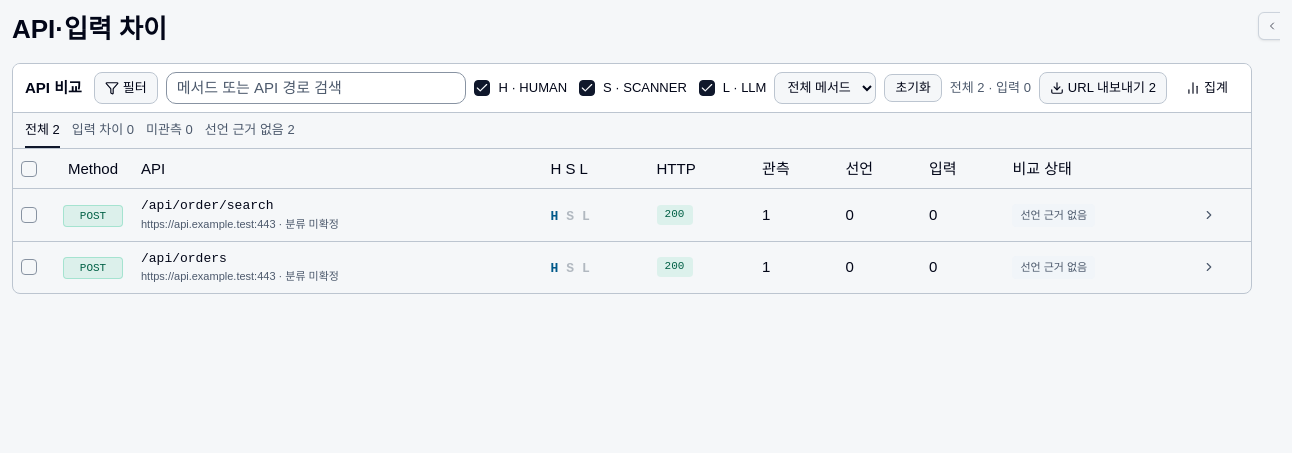
Test: opens API details on every click, including the same row after collapsing the desktop pane
Step 1. Click the button with aria-label "API 상세" → click(207, 206), box x1=141 y1=198 x2=274 y2=215
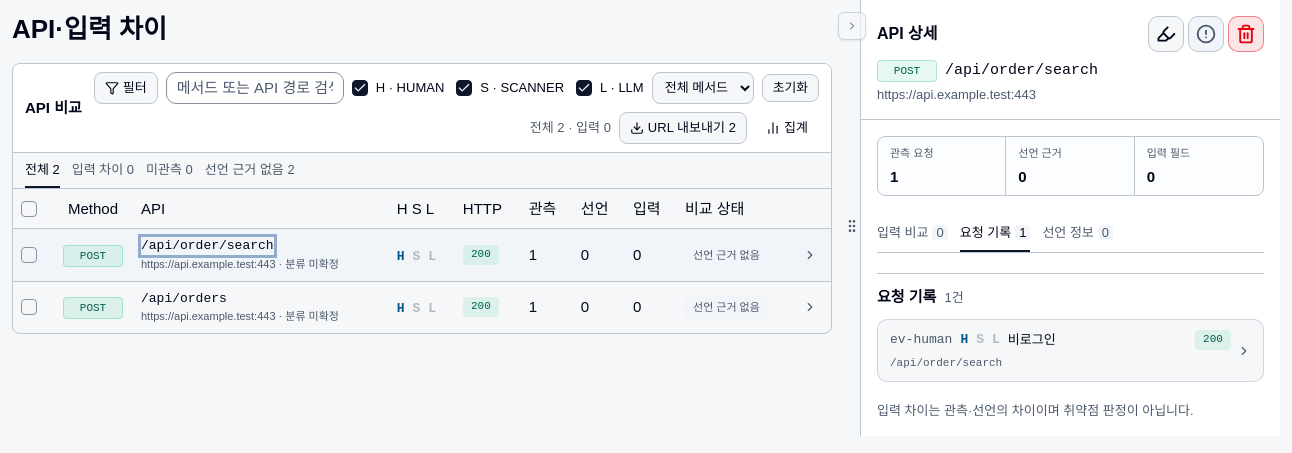
Now the element named "선택 상세" shows "/api/order/search", box x1=945 y1=62 x2=1098 y2=79
Step 2. Click the button named "선택 상세 패널 접기" → click(852, 26), box x1=838 y1=12 x2=866 y2=40
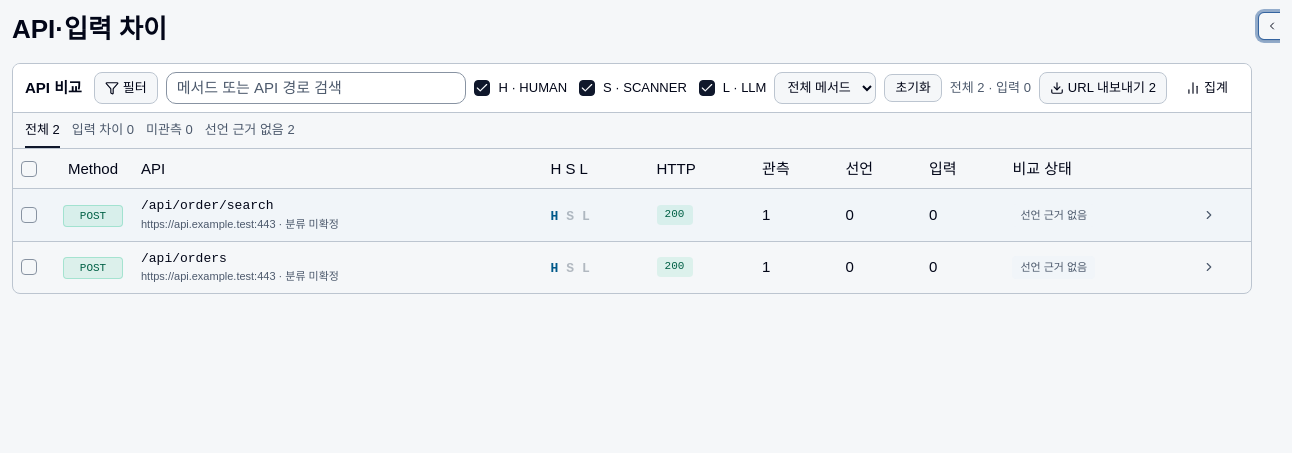
Step 3. Click the button with aria-label "API 상세" → click(207, 206), box x1=141 y1=198 x2=274 y2=215
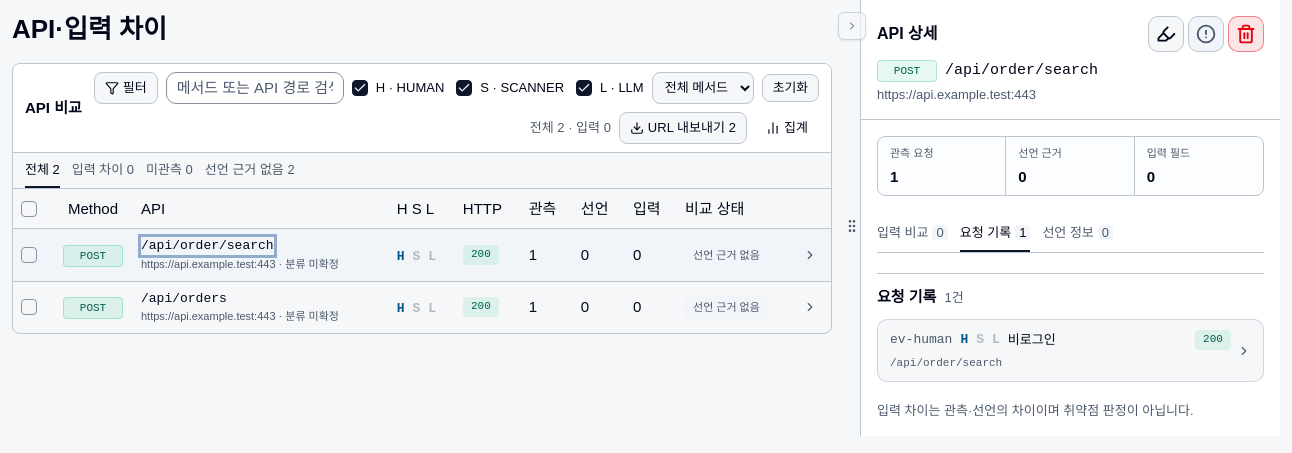
Now the element named "선택 상세" shows "/api/order/search", box x1=945 y1=62 x2=1098 y2=79
Step 4. Click the button named "선택 상세 패널 접기" → click(852, 26), box x1=838 y1=12 x2=866 y2=40
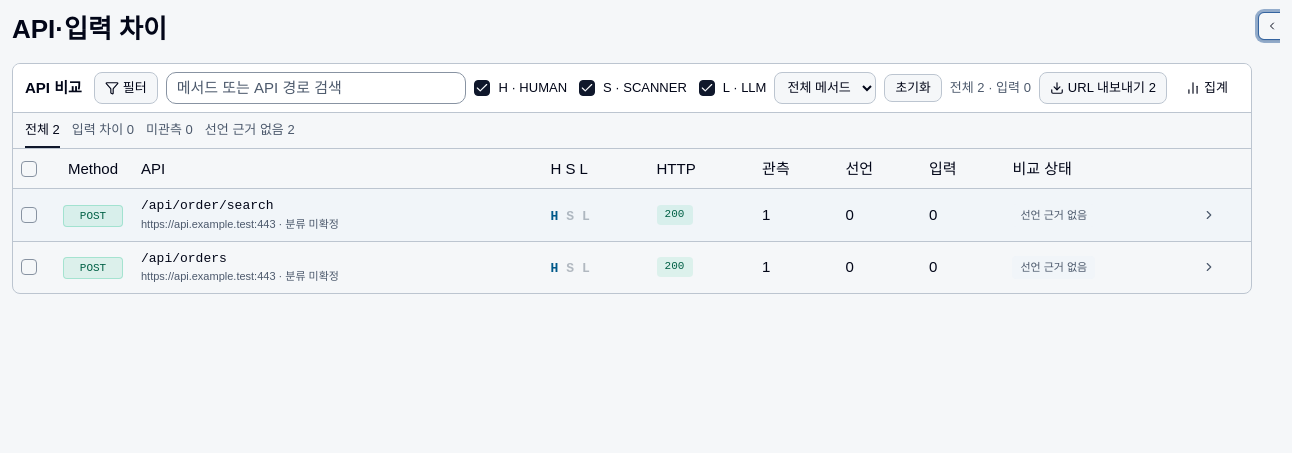
Step 5. Click the button with aria-label "API 상세" → click(184, 258), box x1=141 y1=250 x2=227 y2=267
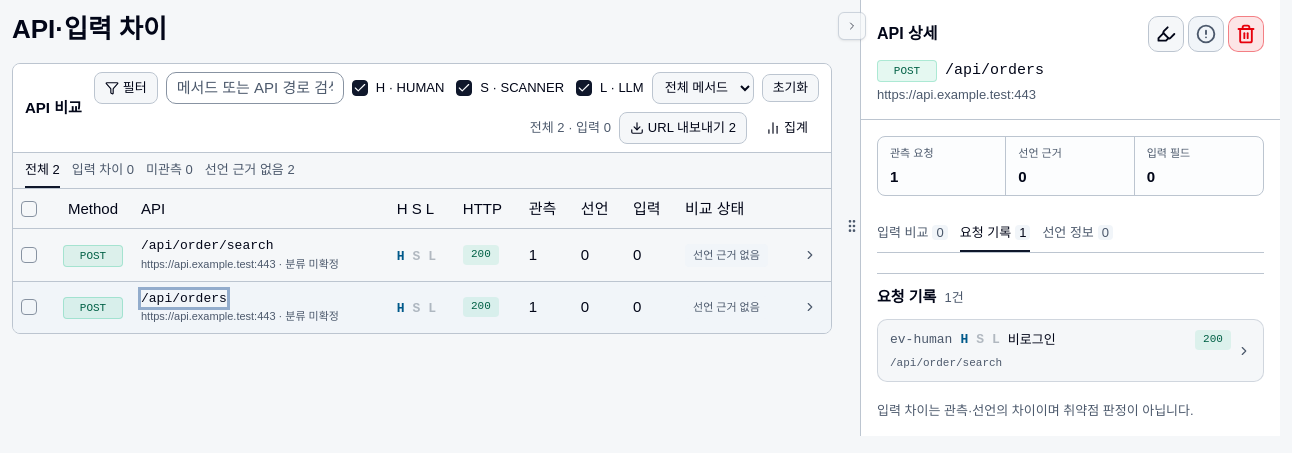
Now the element named "선택 상세" shows "/api/orders", box x1=945 y1=62 x2=1044 y2=79
Step 6. Press the mouse on the element "API 상세" → (1070, 218), box x1=861 y1=0 x2=1280 y2=436
Now the element "API 상세" is shown, box x1=861 y1=0 x2=1280 y2=436
Step 7. Press the mouse on the heading "API·입력 차이" → (89, 29), box x1=12 y1=14 x2=167 y2=44
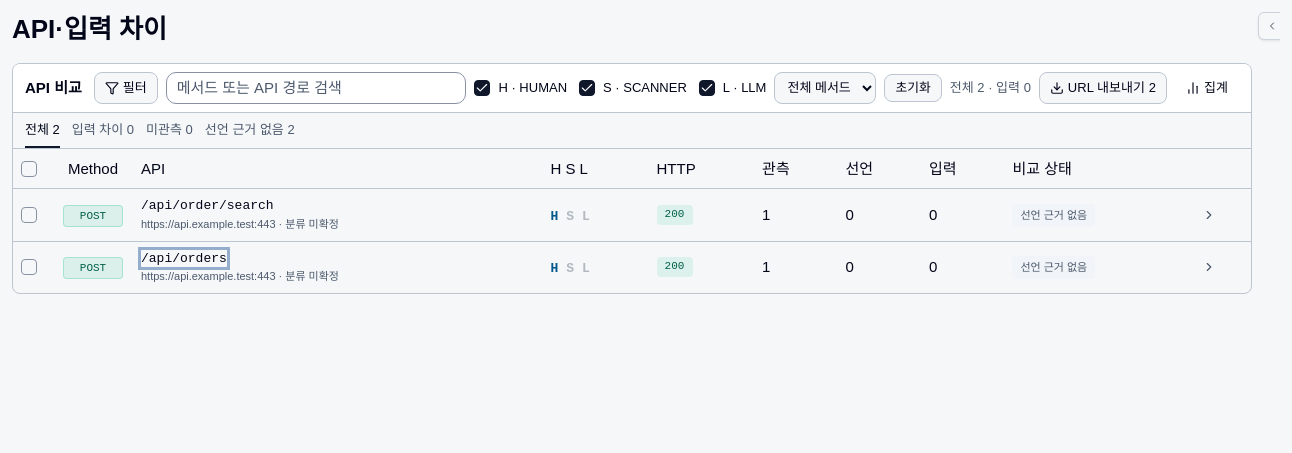
Now the heading "API 상세" is gone
